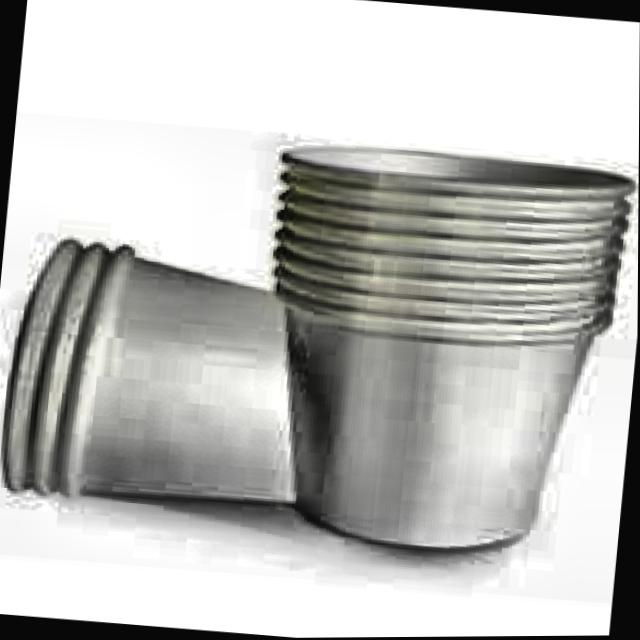Cup: (233, 129, 635, 558), (0, 230, 468, 561)
